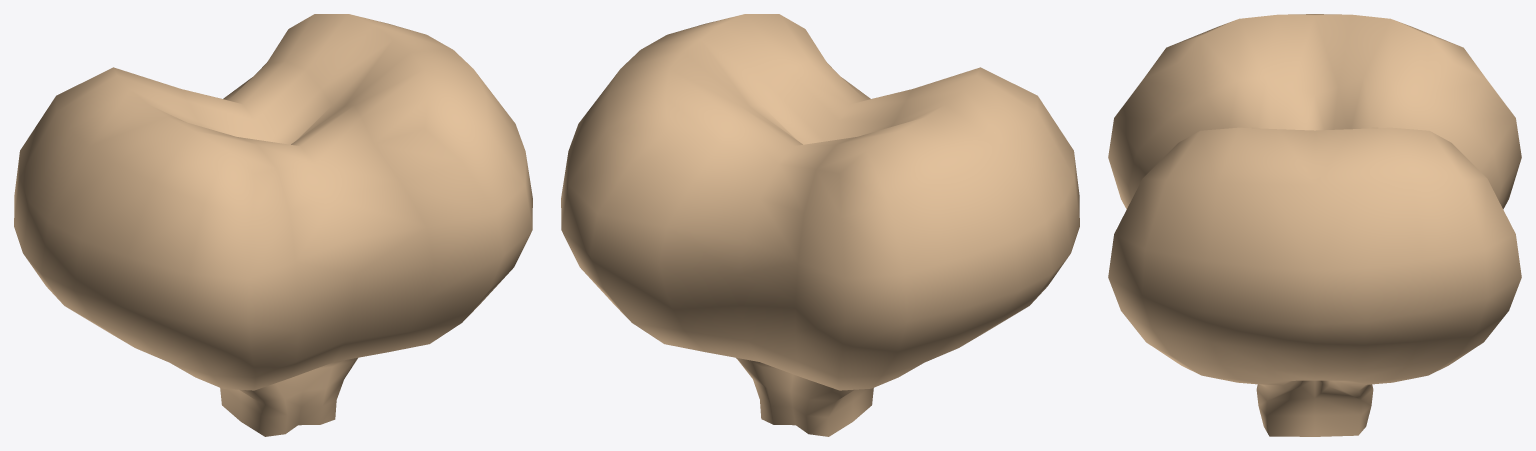
The model's file is osso.fbx.
3 views of the same model, side by side, from view 1: azimuth 30°, elevation 25°; view 2: azimuth 150°, elevation 25°; view 3: azimuth 270°, elevation 25° (orthographic).
Visible parts, largest first — view 1: osso; view 2: osso; view 3: osso.
Boxes of the visible parts, bbox=[...] form: osso: bbox=[14, 14, 532, 436]; osso: bbox=[561, 14, 1079, 436]; osso: bbox=[1108, 14, 1521, 436].
Size of the model in its own units: 234 by 167 by 180.
